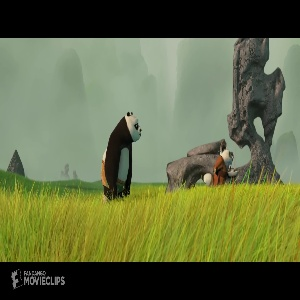po: (98, 109, 144, 200)
shifu: (202, 144, 235, 185)
